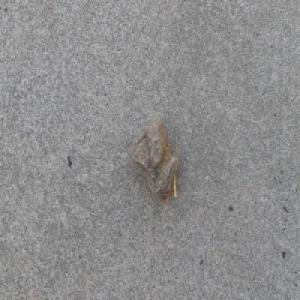Rock: (127, 113, 179, 202)
